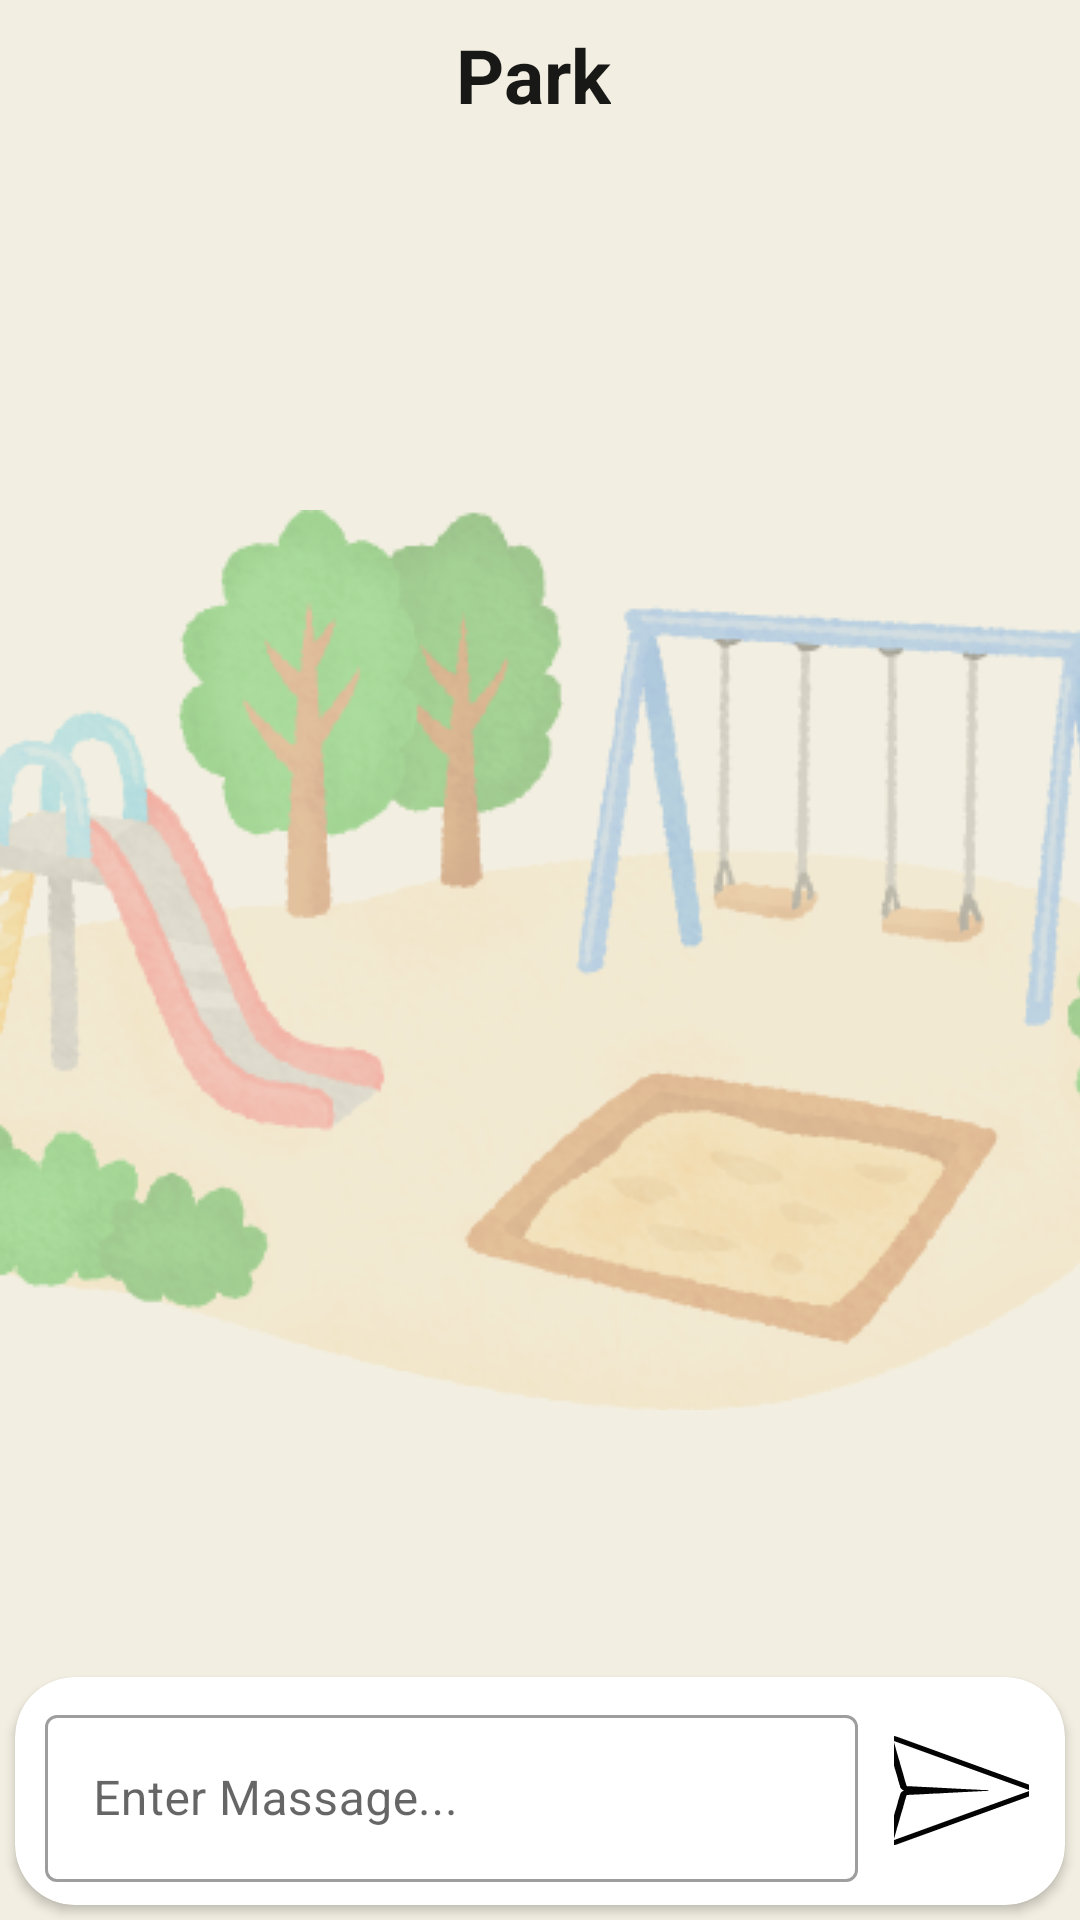

Named icons in this screenshot (1080×1920) and their bounding boxes, bbox=(x1, y1, x2, y2):
send: bbox=(894, 1736, 1029, 1845)
